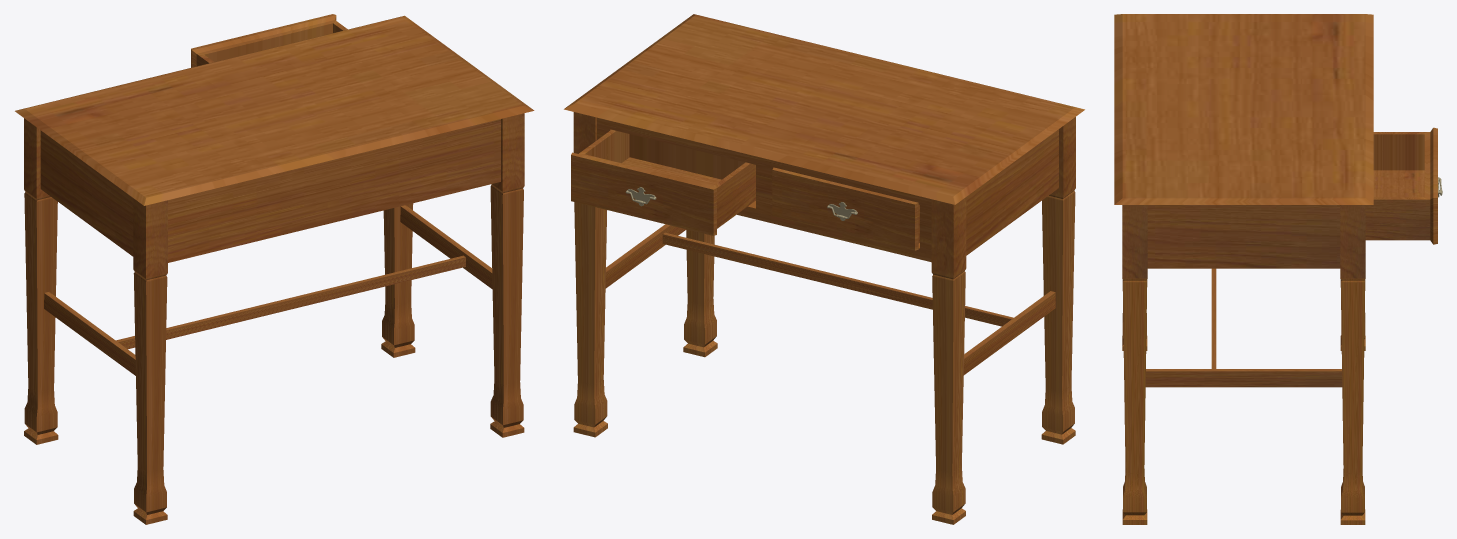
Rendered from desk.fbx.
3 views of the same model, side by side, from view 1: azimuth 30°, elevation 25°; view 2: azimuth 150°, elevation 25°; view 3: azimuth 270°, elevation 25° (orthographic).
Parts seen in each view (by area): view 1: pCube14, pCube17, pCube16, pCube18, pCube21, pCube15, pCube22, pCube20, pCube19; view 2: pCube14, pCube22, pCube18, pCube17, pCube15, pCube29, pCube21, pCube16, pCube20, pCube19; view 3: pCube14, pCube16, pCube15, pCube22, pCube19, pCube21.
Boxes of the visible parts, <box> form: pCube14: <box>15,15,534,262</box>; pCube17: <box>133,198,167,524</box>; pCube16: <box>490,113,524,437</box>; pCube18: <box>24,118,58,444</box>; pCube21: <box>116,255,465,349</box>; pCube15: <box>381,203,415,357</box>; pCube22: <box>191,14,347,67</box>; pCube20: <box>44,292,135,375</box>; pCube19: <box>400,205,492,289</box>; pCube14: <box>564,14,1084,262</box>; pCube22: <box>571,129,755,235</box>; pCube18: <box>931,197,966,524</box>; pCube17: <box>1041,117,1075,444</box>; pCube15: <box>573,112,607,437</box>; pCube29: <box>772,167,919,250</box>; pCube21: <box>662,232,1013,326</box>; pCube16: <box>683,229,717,357</box>; pCube20: <box>963,291,1055,375</box>; pCube19: <box>605,224,686,288</box>; pCube14: <box>1114,14,1373,268</box>; pCube16: <box>1122,205,1147,524</box>; pCube15: <box>1340,205,1365,524</box>; pCube22: <box>1365,127,1437,244</box>; pCube19: <box>1145,369,1342,387</box>; pCube21: <box>1211,268,1216,368</box>.
Bounding box in the file's own units: 4.17 × 3.33 × 3.04.
